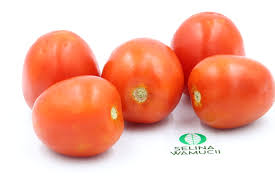tomato: (28, 75, 125, 157), (102, 35, 185, 124), (189, 53, 274, 129)
